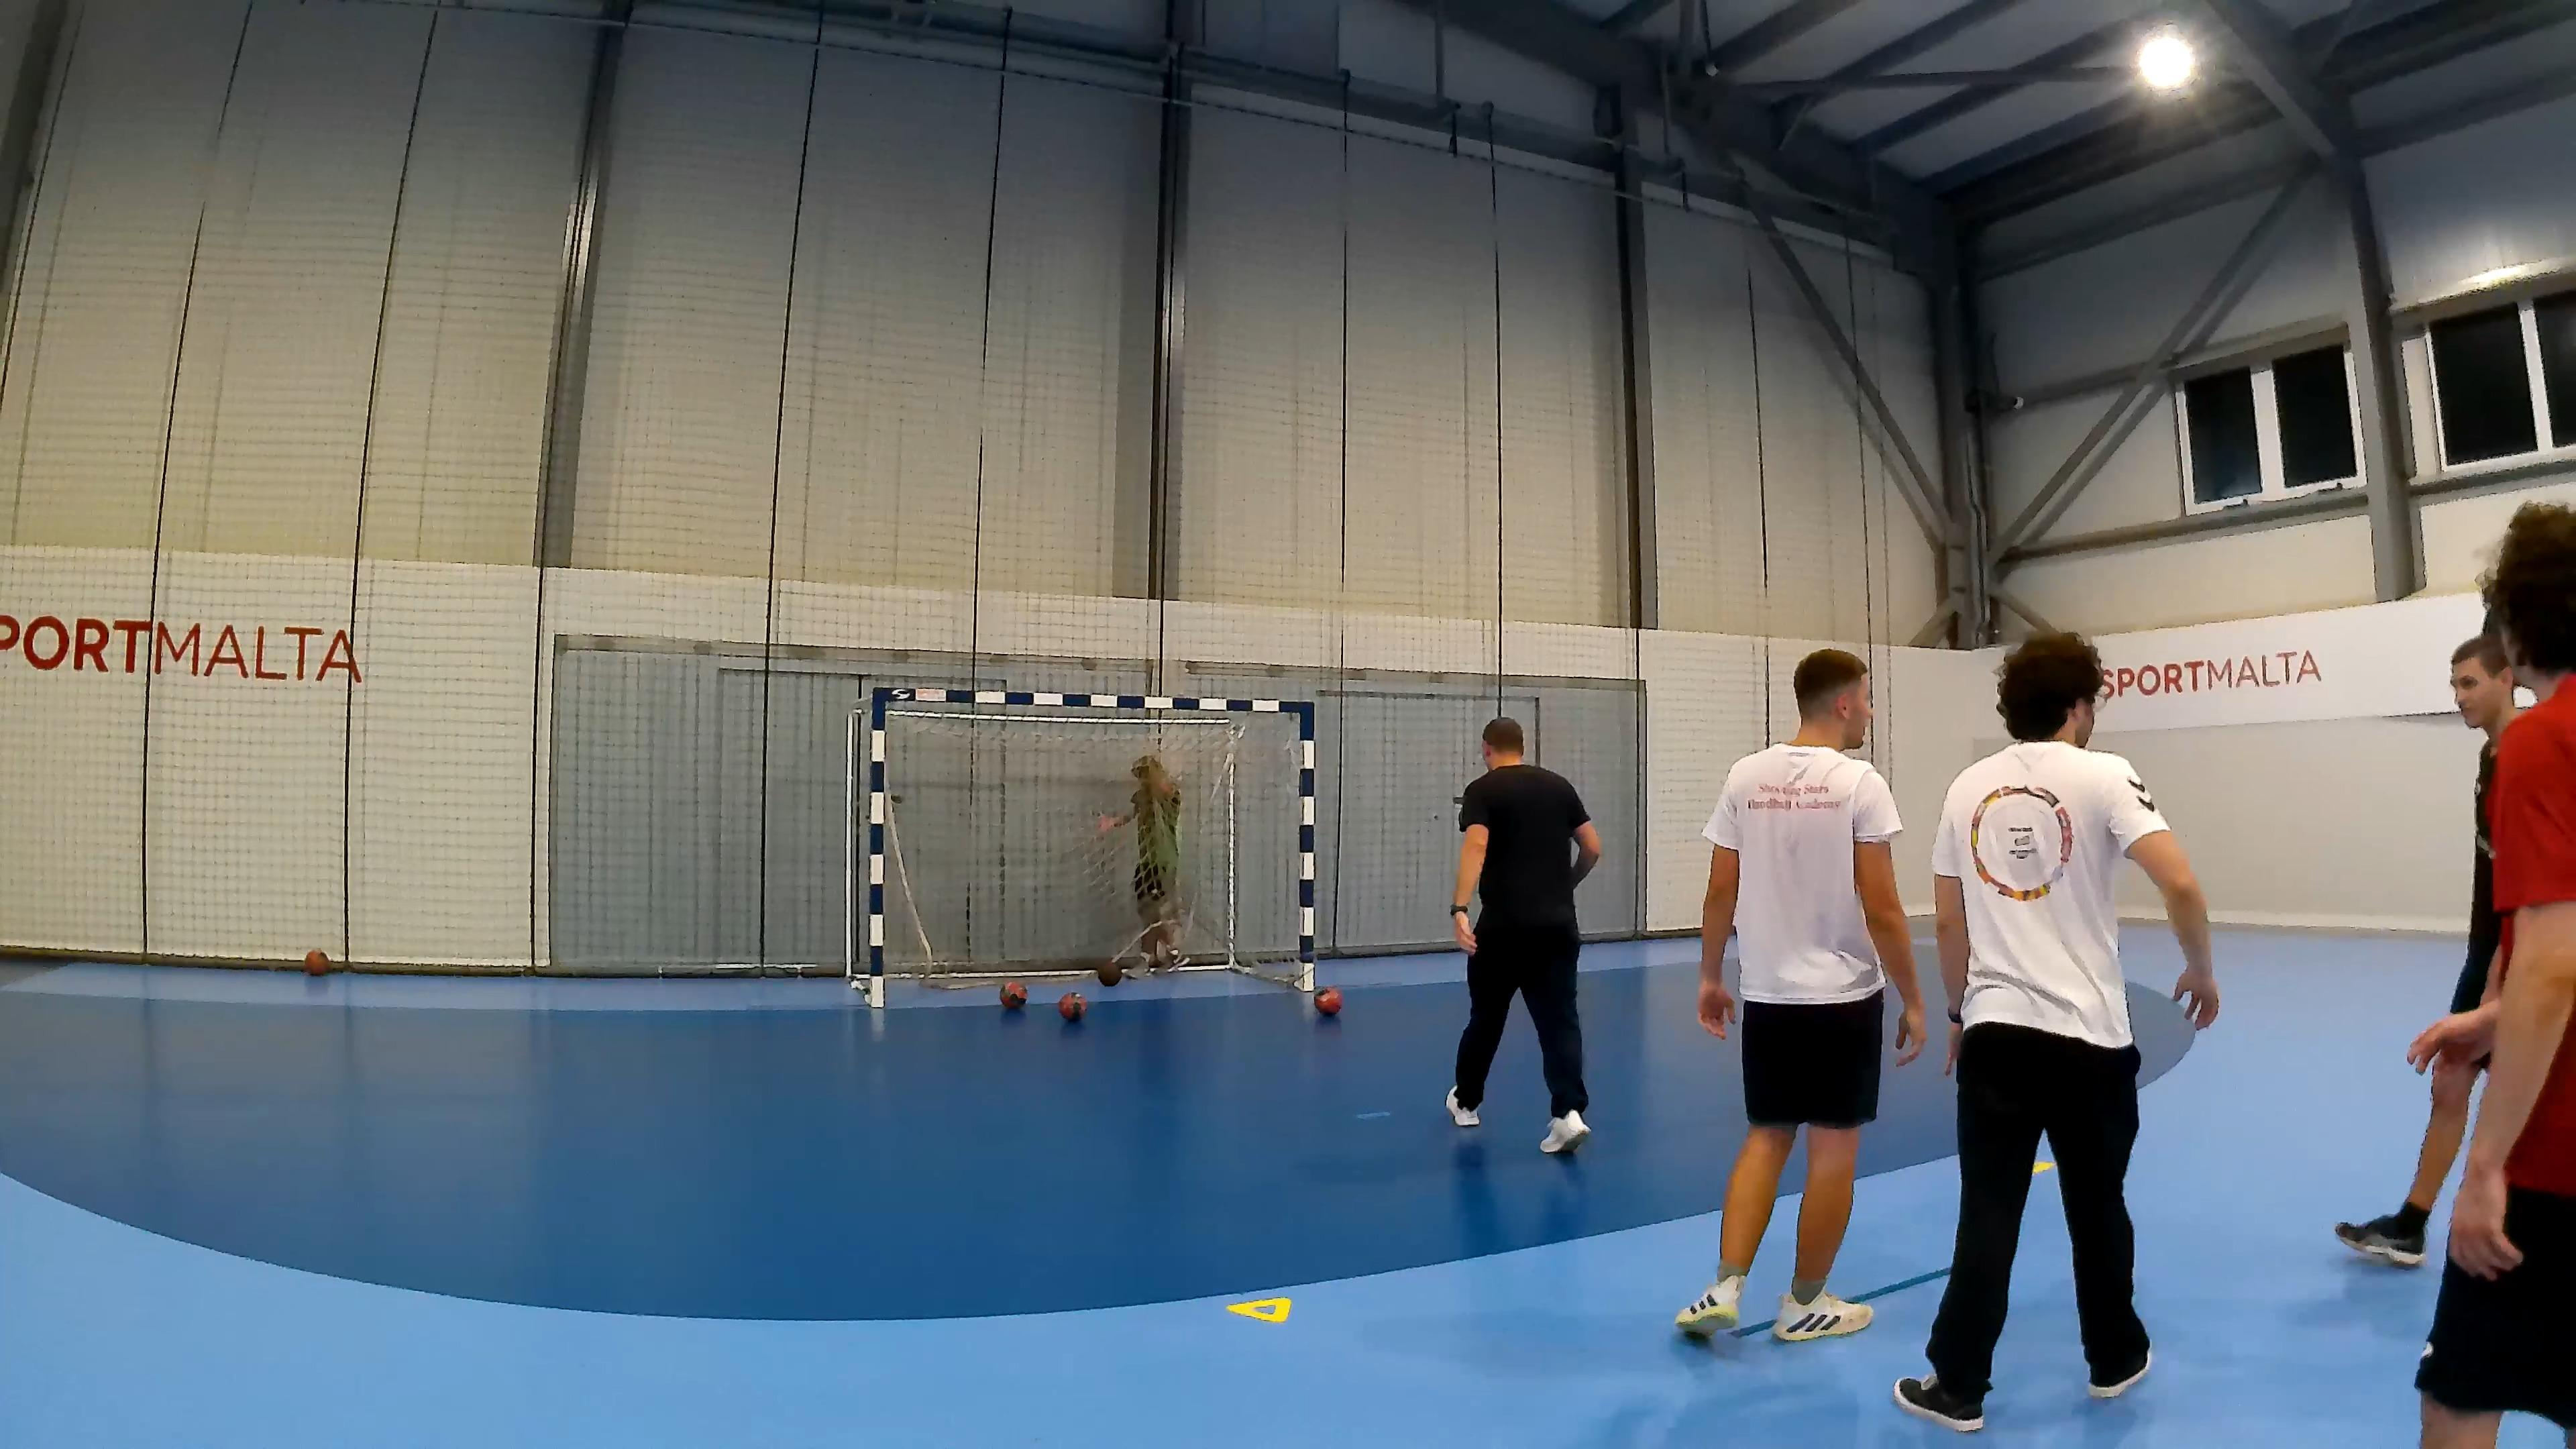handball: (1056, 991, 1086, 1019), (998, 980, 1026, 1008), (1315, 985, 1341, 1016), (1095, 957, 1122, 985)
